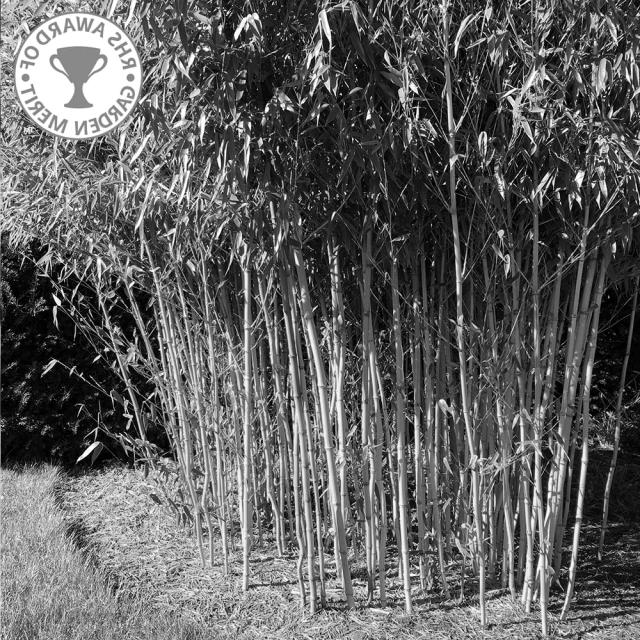Running: (139, 0, 640, 640)
